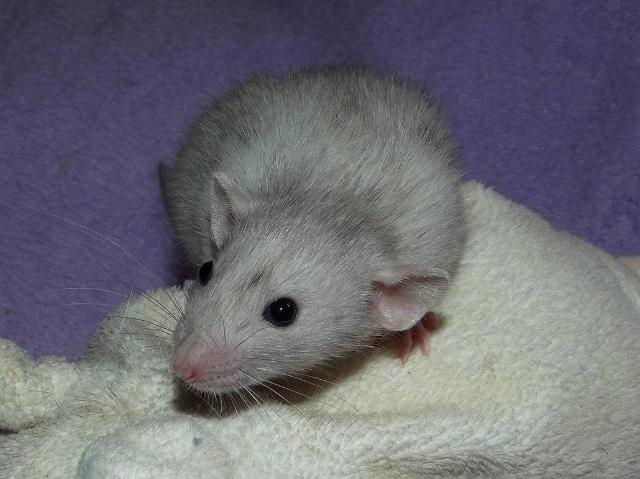rat: (124, 46, 503, 416)
